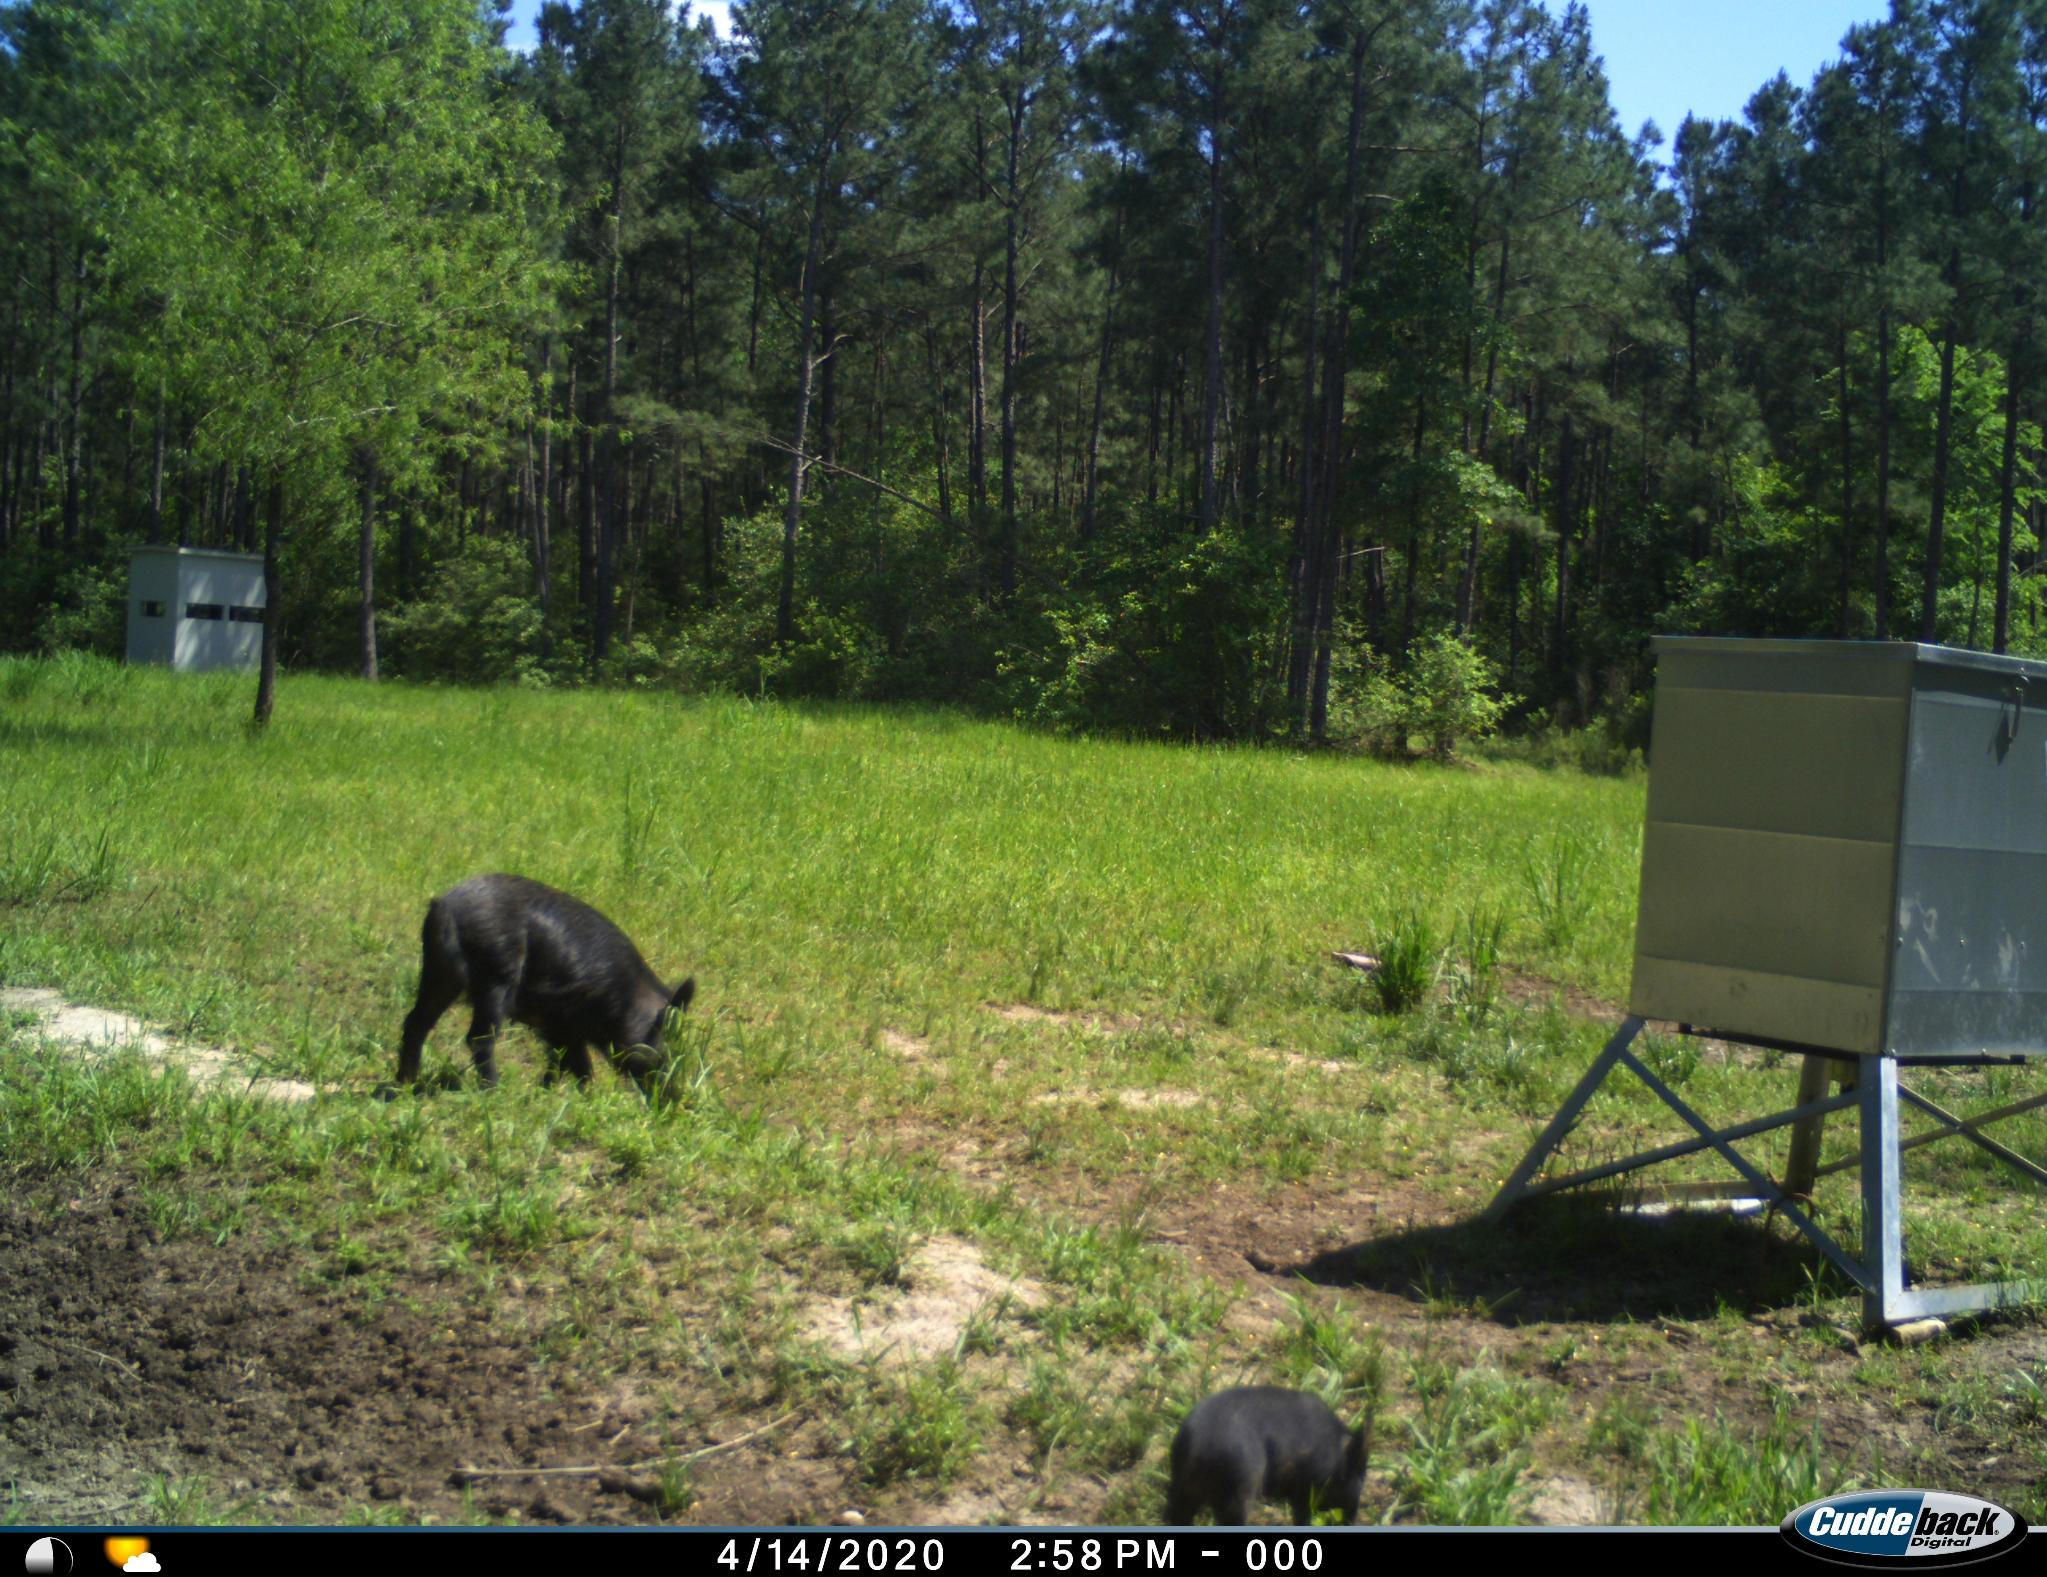Hog: (379, 866, 699, 1103), (1148, 1387, 1396, 1521)
